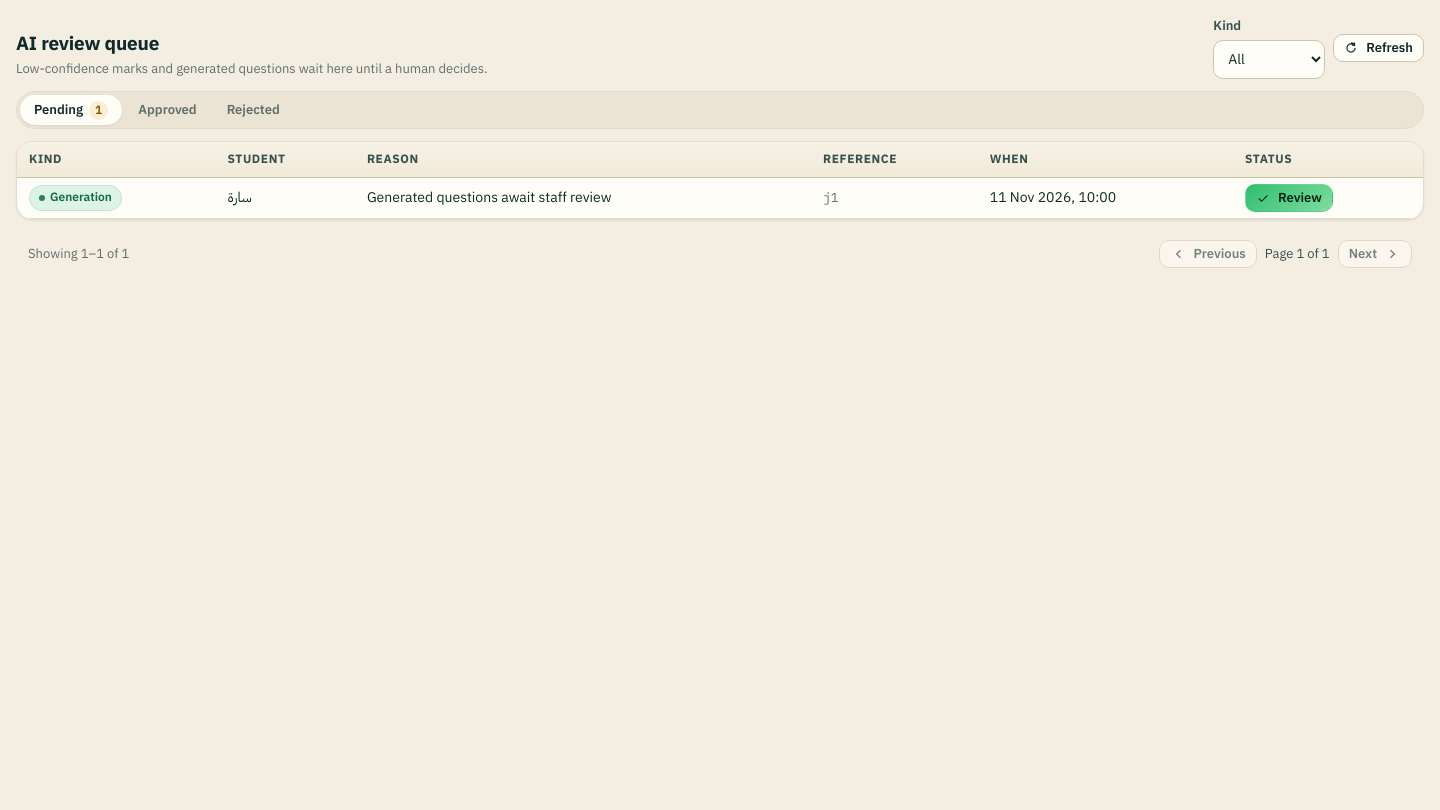
Test: AiReviewsPage › rejects a review without a note when none is written
The image size is (1440, 810).
Click the text "Generated questions await staff review".
click(489, 198)  # box [367, 187, 611, 208]
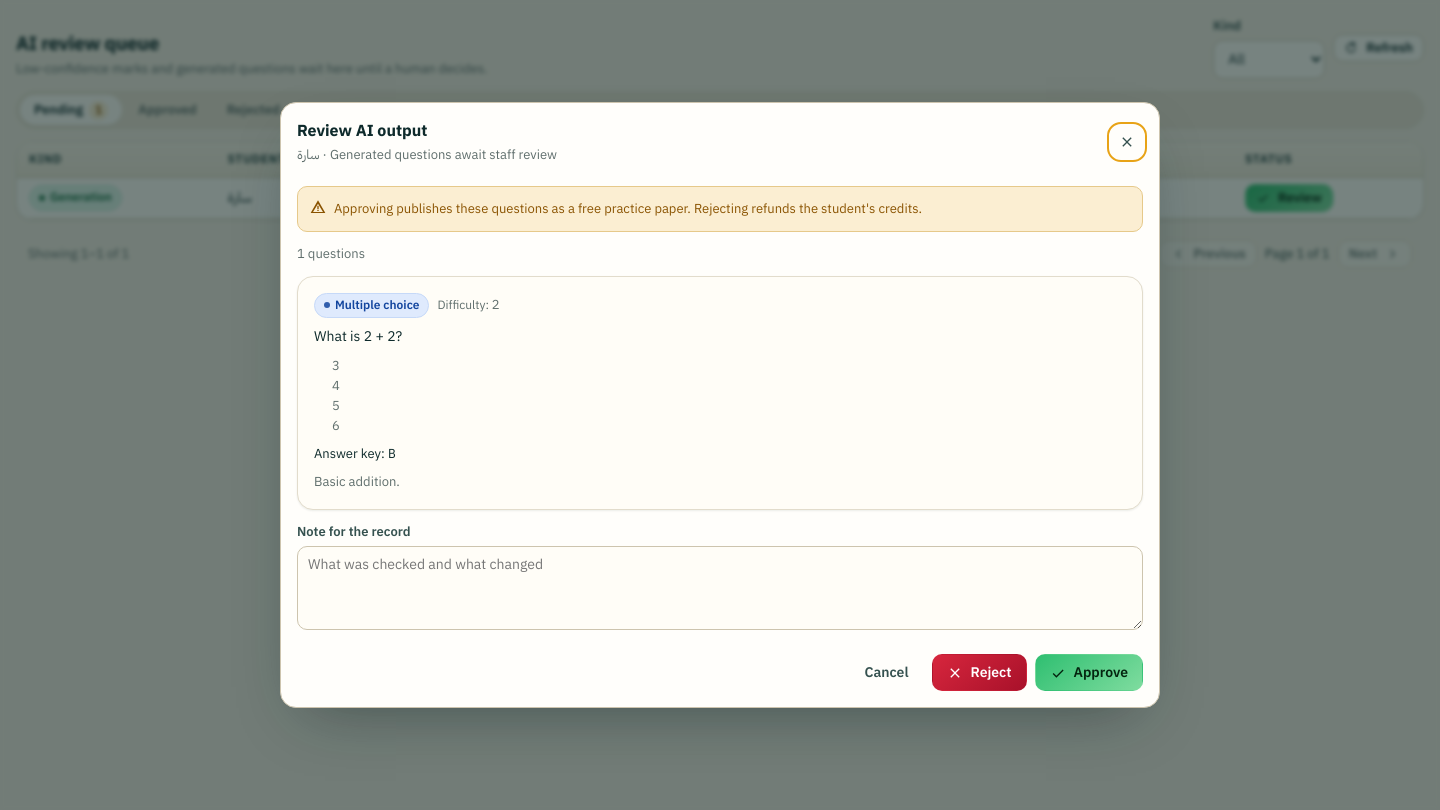
Click the button "Reject".
click(979, 673)  # box [932, 654, 1026, 691]
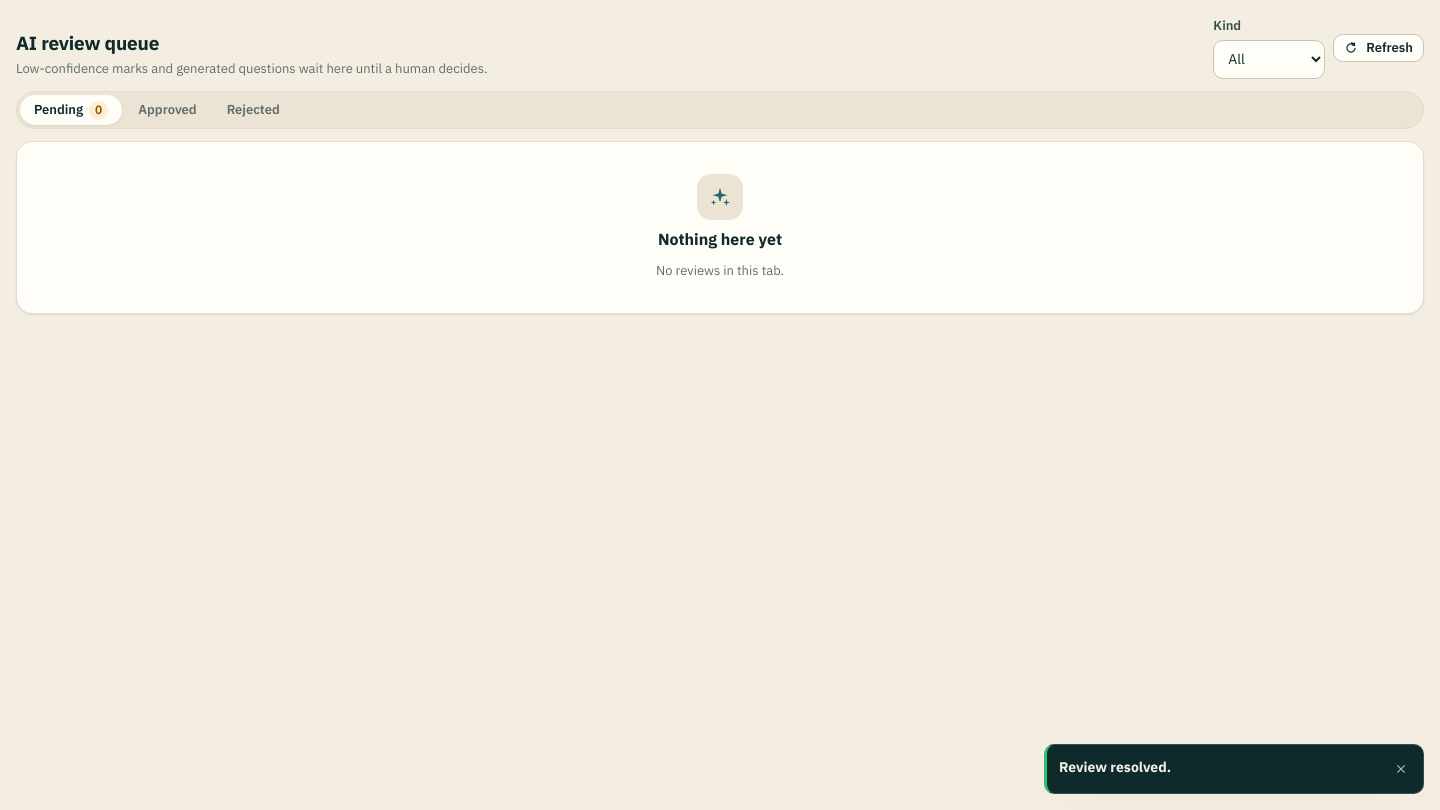
Now the dialog is gone
